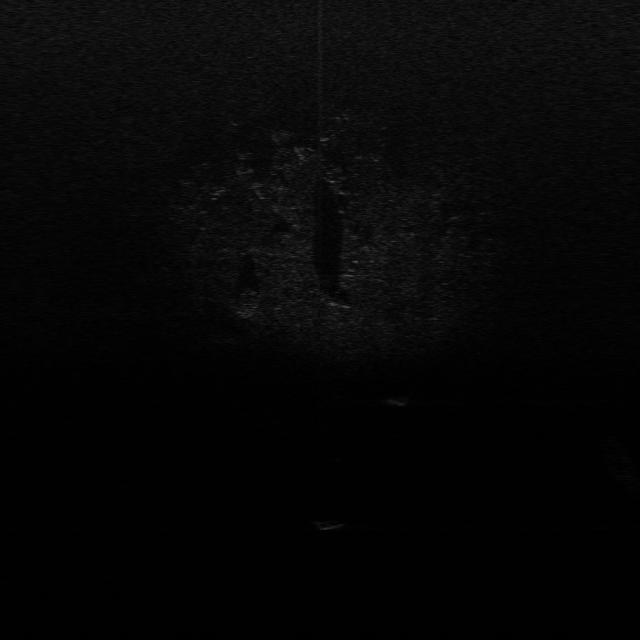cube: (310, 516, 344, 530)
square cage: (383, 392, 412, 408)
